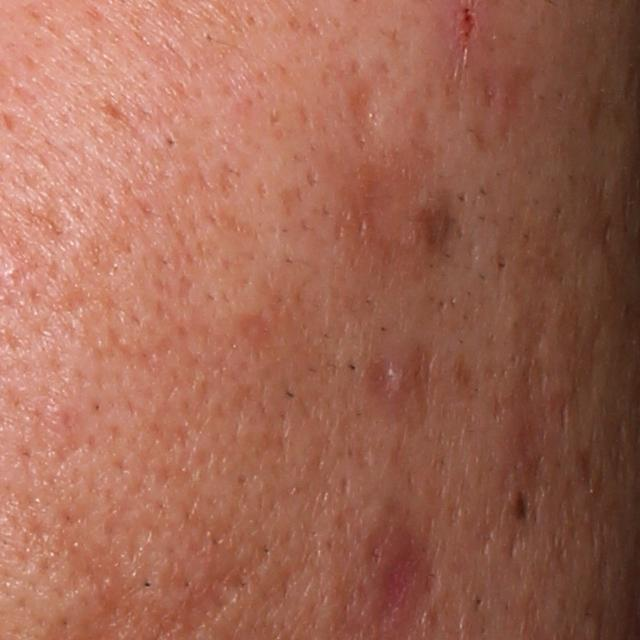atrophic_scar: (502, 255, 572, 473), (355, 165, 428, 252), (360, 342, 418, 402), (49, 260, 106, 317), (349, 73, 387, 146), (24, 386, 56, 454), (495, 67, 538, 117), (215, 158, 240, 202), (304, 161, 320, 188)
comedo: (158, 130, 183, 156)
nevus: (511, 489, 531, 522)
